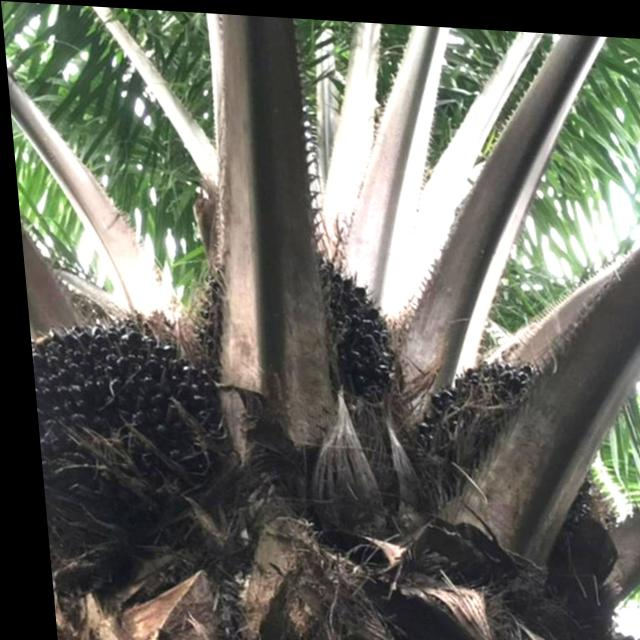unripe: (21, 303, 227, 557), (177, 213, 407, 432), (390, 337, 561, 509)
